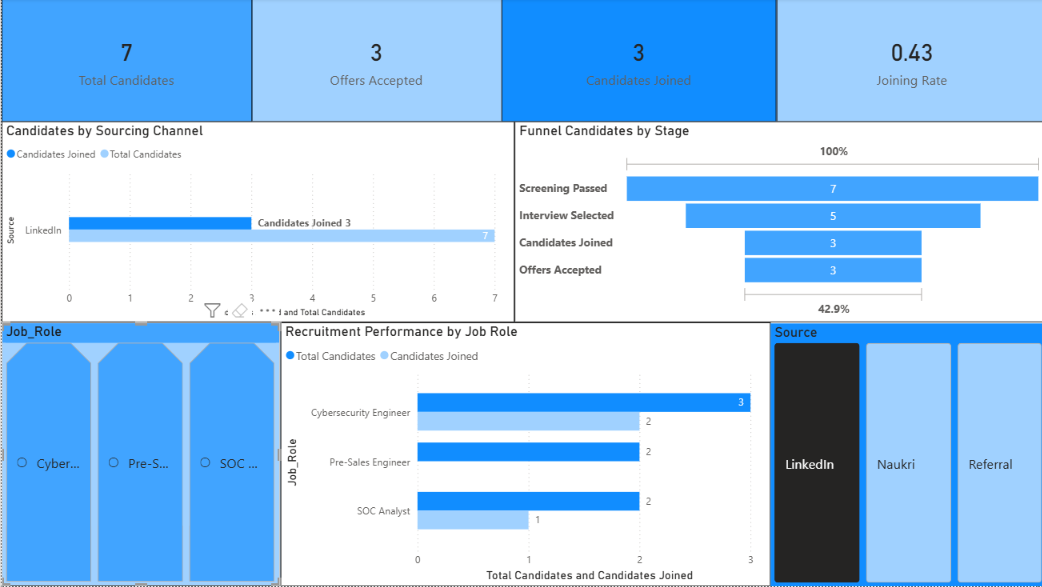

This screenshot's page, from the dashboard's own definition file:
{"tool":"powerbi","page":{"name":"Page 1","canvas":[1280,720],"ordinal":0},"visuals":[{"type":"card","fields":{"Values":["Table1.Candidates Joined"]},"box":[612,0,336.2,150.9],"z":0},{"type":"card","fields":{"Values":["Table1.Offers Accepted"]},"box":[306,0,306,150.9],"z":1},{"type":"card","fields":{"Values":["Table1.Total Candidates"]},"box":[0,0,306,150.9],"z":2},{"type":"card","fields":{"Values":["Table1.Joining Rate"]},"box":[948.2,0,332.1,150.9],"z":3},{"type":"clusteredBarChart","title":"Candidates by Sourcing Channel","fields":{"Category":["Table1.Source"],"Y":["Table1.Candidates Joined","Table1.Total Candidates"]},"box":[0,150.5,627.4,245.6],"z":4},{"type":"funnel","fields":{"Category":["Recruitment_Stages.Stage"],"Y":["Recruitment_Stages.Funnel Candidates"]},"box":[627.1,150.9,653.2,245.6],"z":5},{"type":"clusteredBarChart","title":"Recruitment Performance by Job Role","fields":{"Category":["Table1.Job_Role"],"Y":["Table1.Total Candidates","Table1.Candidates Joined"]},"box":[340.7,396,599,323.6],"z":6},{"type":"advancedSlicerVisual","fields":{"Values":["Table1.Job_Role"]},"box":[0,396,340.7,323.6],"z":7},{"type":"advancedSlicerVisual","fields":{"Values":["Table1.Source"]},"box":[940,397,340,323],"z":8}]}

Visuals, with their boxes in screenshot pixels (x1, y1, x2, y2), scaled from the page's 1280x720 canvas onto the 1042x587 screenshot:
card - Table1.Candidates Joined: 498, 0, 772, 123
card - Table1.Offers Accepted: 249, 0, 498, 123
card - Table1.Total Candidates: 0, 0, 249, 123
card - Table1.Joining Rate: 772, 0, 1041, 123
"Candidates by Sourcing Channel" clusteredBarChart: 0, 123, 511, 323
funnel - Recruitment_Stages.Stage x Recruitment_Stages.Funnel Candidates: 510, 123, 1041, 323
"Recruitment Performance by Job Role" clusteredBarChart: 277, 323, 765, 586
advancedSlicerVisual - Table1.Job_Role: 0, 323, 277, 586
advancedSlicerVisual - Table1.Source: 765, 324, 1041, 586
